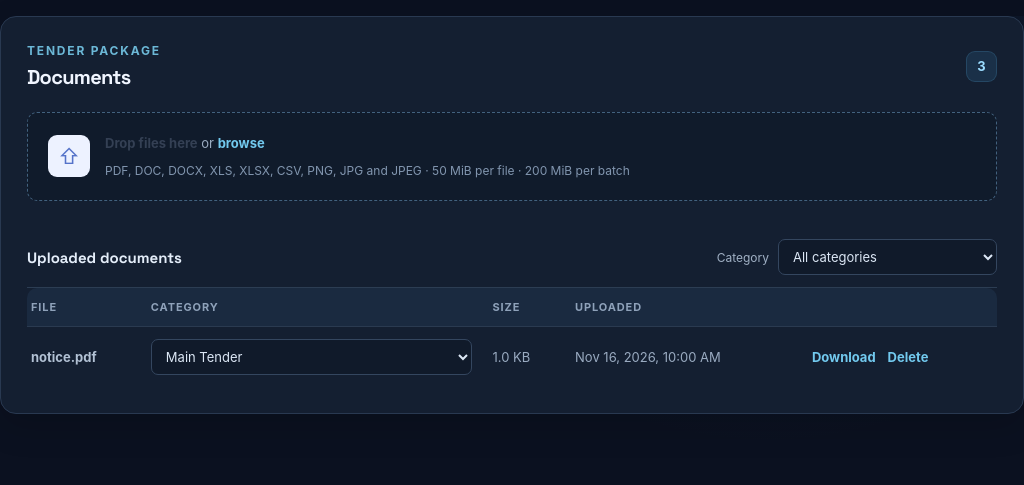
Test case: tender document management › renders real list records, empty and loading states, and filters by category
expect the text "notice.pdf" is shown: met, box [31,349,97,365]
expect the text "1.0 KB" is shown: met, box [482,326,565,387]
Select "Boq" in the dropdown named "Filter documents by category" at {"x": 888, "y": 257}, box [778,239,997,275]
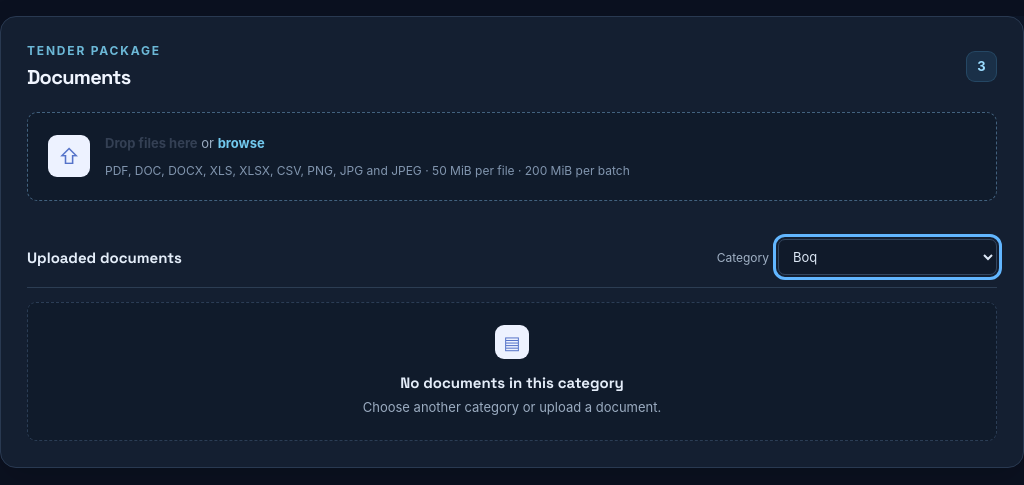
expect the heading "No documents in this category" is shown: met, box [400,373,624,392]
